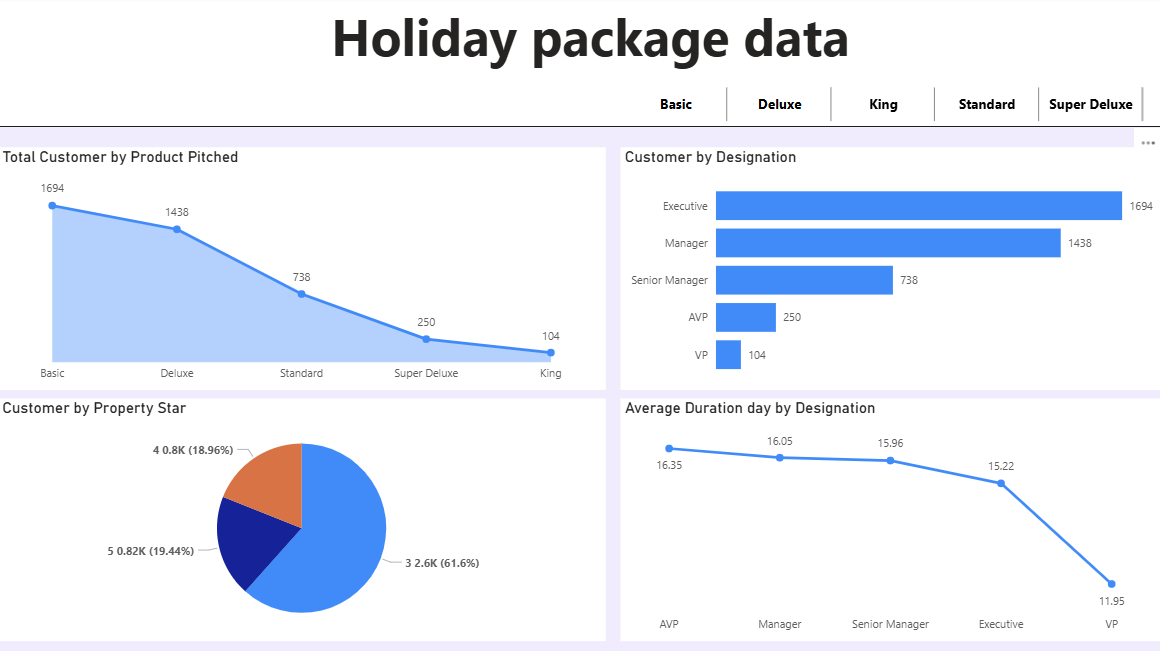

The dashboard page shown, as its layout file describes it:
{"tool":"powerbi","page":{"name":"Page 1","canvas":[1280,720],"ordinal":0},"visuals":[{"type":"shape","box":[0,0,1280.3,144.1],"z":0},{"type":"textbox","box":[360.9,0,610.6,93.3],"z":1000},{"type":"slicer","fields":{"Values":["Travel_wrangled.ProductPitched"]},"box":[662.8,93.3,617.5,50.8],"z":2000},{"type":"areaChart","title":"Total Customer by Product Pitched","fields":{"Category":["Travel_wrangled.ProductPitched"],"Y":["CountNonNull(Travel_wrangled.CustomerID)"]},"box":[0,166,666.9,266.2],"z":3000},{"type":"barChart","title":"Customer by Designation","fields":{"Y":["CountNonNull(Travel_wrangled.CustomerID)"],"Category":["Travel_wrangled.Designation"]},"box":[683.4,166,592.8,266.2],"z":3001},{"type":"pieChart","title":"Customer by Property Star","fields":{"Y":["CountNonNull(Travel_wrangled.Designation)"],"Category":["Travel_wrangled.PreferredPropertyStar"]},"box":[0,442,667,266],"z":3002},{"type":"lineChart","title":"Average Duration day by Designation","fields":{"Y":["Avg(Travel_wrangled.DurationOfPitch)"],"Category":["Travel_wrangled.Designation"]},"box":[683,442,593,266],"z":3003}]}

Visuals, with their boxes in screenshot pixels (x1, y1, x2, y2), scaled from the page's 1280x720 canvas onto the 1160x651 screenshot:
shape: [left=0, top=0, right=1159, bottom=130]
textbox: [left=327, top=0, right=880, bottom=84]
slicer - Travel_wrangled.ProductPitched: [left=601, top=84, right=1159, bottom=130]
"Total Customer by Product Pitched" areaChart: [left=0, top=150, right=604, bottom=391]
"Customer by Designation" barChart: [left=619, top=150, right=1157, bottom=391]
"Customer by Property Star" pieChart: [left=0, top=400, right=604, bottom=640]
"Average Duration day by Designation" lineChart: [left=619, top=400, right=1156, bottom=640]
